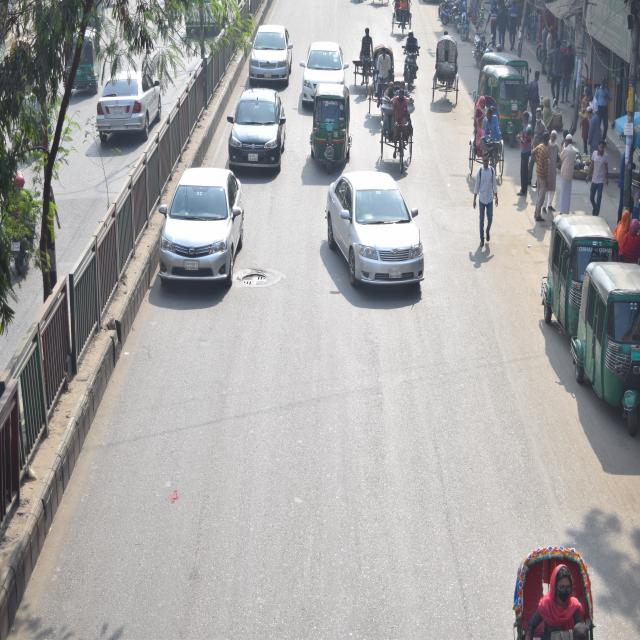car: (320, 165, 427, 295), (158, 159, 250, 287), (95, 63, 165, 140), (230, 81, 288, 173), (248, 17, 296, 79), (302, 36, 343, 103)
motorbike: (398, 36, 420, 90)
